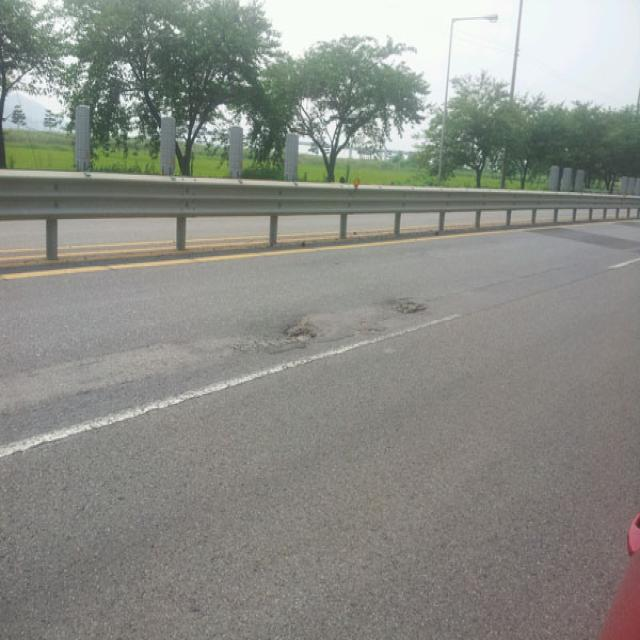pothole: (270, 304, 331, 353), (381, 283, 430, 324)
